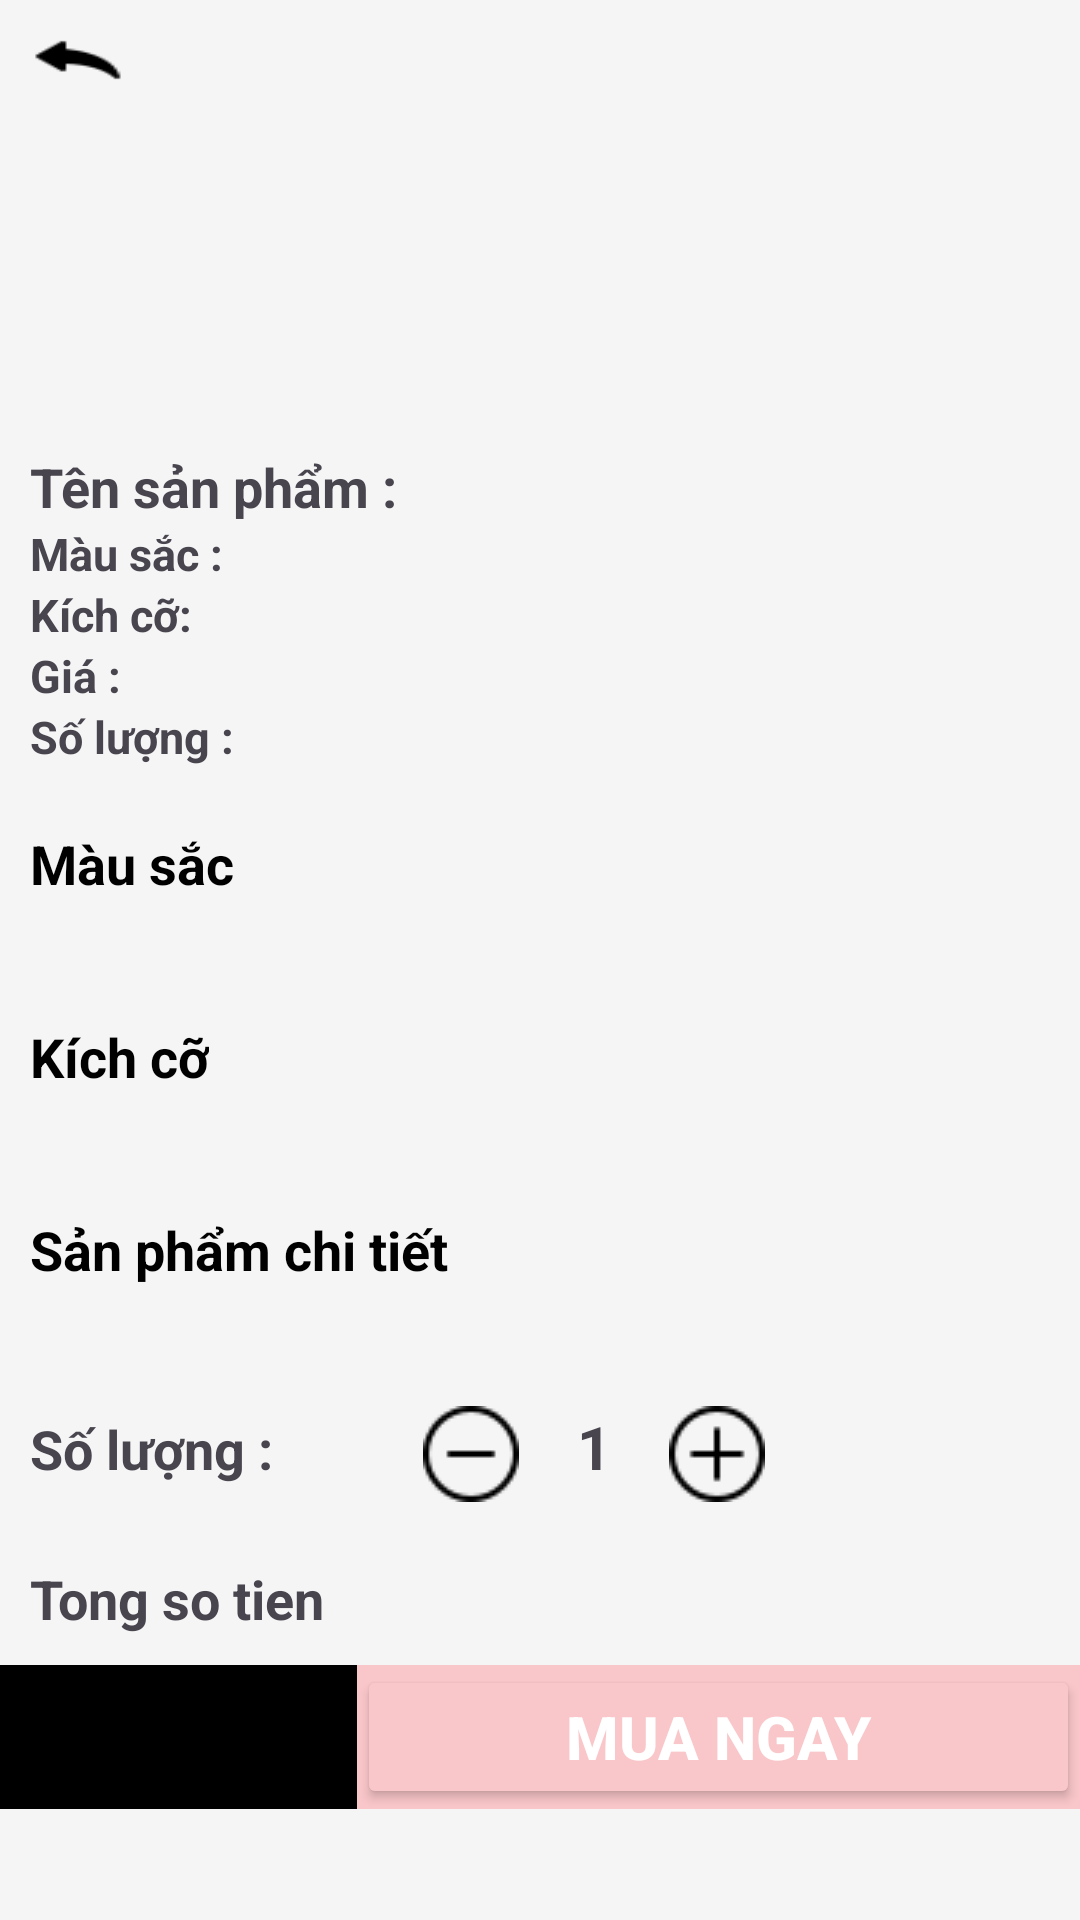

Where to tap for icons on this 1080×1920 app screen, as [x,y]:
back: [78,60]
minus: [471,1454]
plus: [717,1454]
